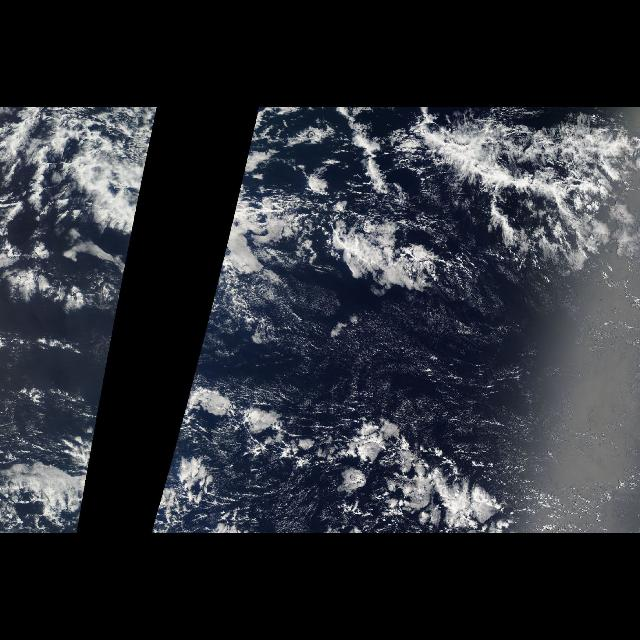Fish: (282, 126, 640, 296), (236, 401, 507, 533)
Sugar: (338, 297, 640, 471)
